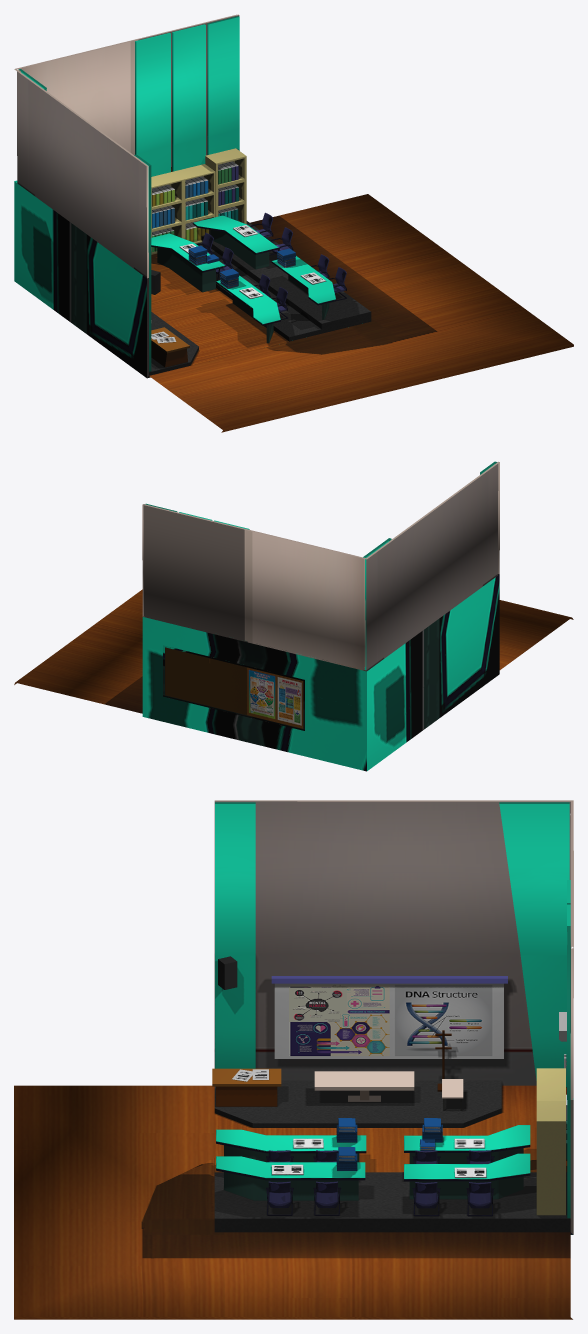
Rendered from Tx_Interior_Education_HealthScience.fbx.
3 renders of one model, top to bottom at view 1: azimuth 30°, elevation 25°; view 2: azimuth 150°, elevation 25°; view 3: azimuth 270°, elevation 25°, orthographic. The views are drawn at different scales.
Parts seen in each view (by area): view 1: Extrude, polySurface167; view 2: Extrude, polySurface167; view 3: Extrude, polySurface167.
Part boxes in pixels (left/top/right/bottom): Extrude: left=14, top=14, right=573, bottom=432; polySurface167: left=14, top=129, right=371, bottom=378; Extrude: left=14, top=461, right=573, bottom=713; polySurface167: left=142, top=574, right=499, bottom=771; Extrude: left=14, top=800, right=573, bottom=1319; polySurface167: left=212, top=953, right=573, bottom=1234.
Size of the model in its own units: 82.41 by 47.3 by 83.76.
